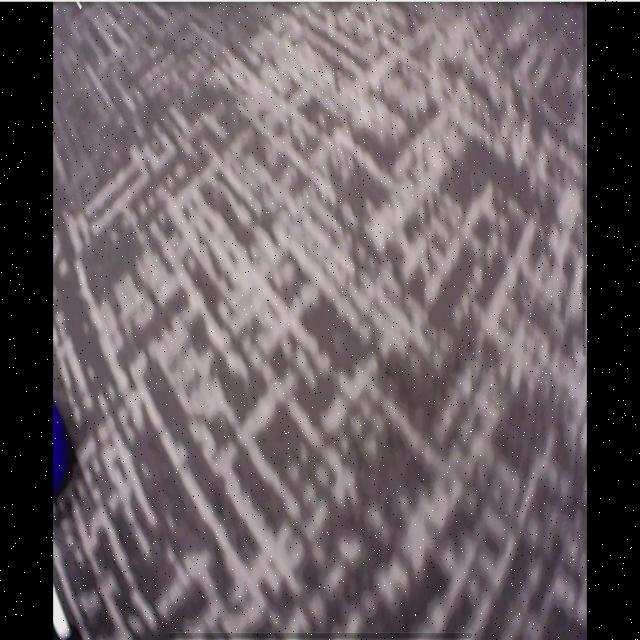ball: (54, 397, 69, 495)
